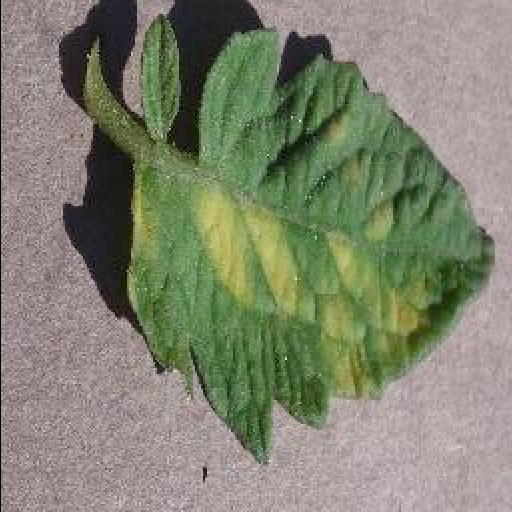disease_tomato: (124, 31, 498, 467)
